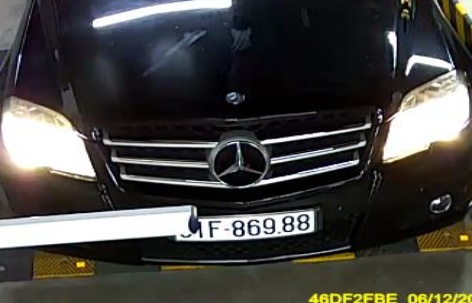plate: (178, 206, 321, 242)
